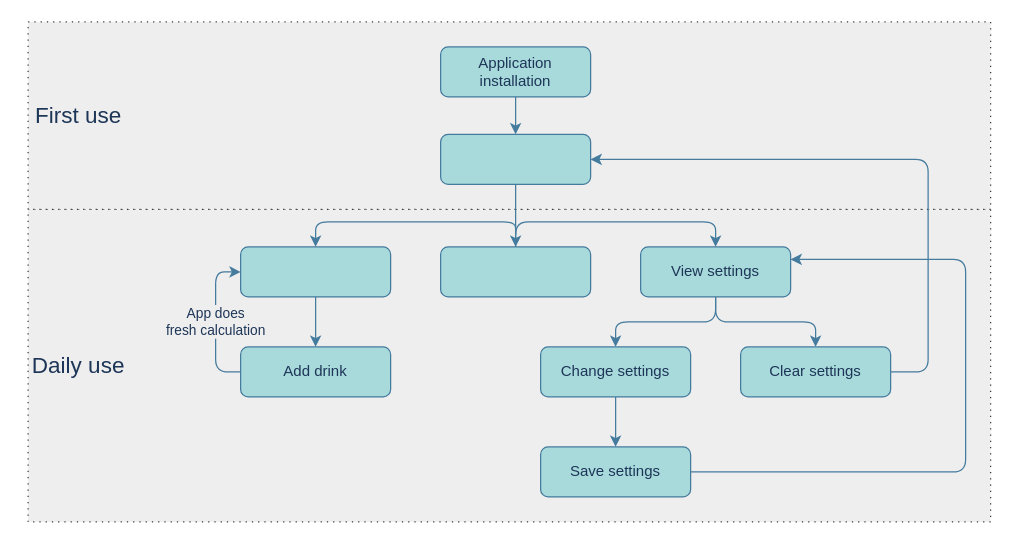
Image size: 1013x544. Some labels were removed from this diagram. The centre of each missing label's shape, as x and y in pixels:
"Configure user settings" goes at [515,158].
"Hydration monitoring" goes at [315,271].
"View log" goes at [515,271].
